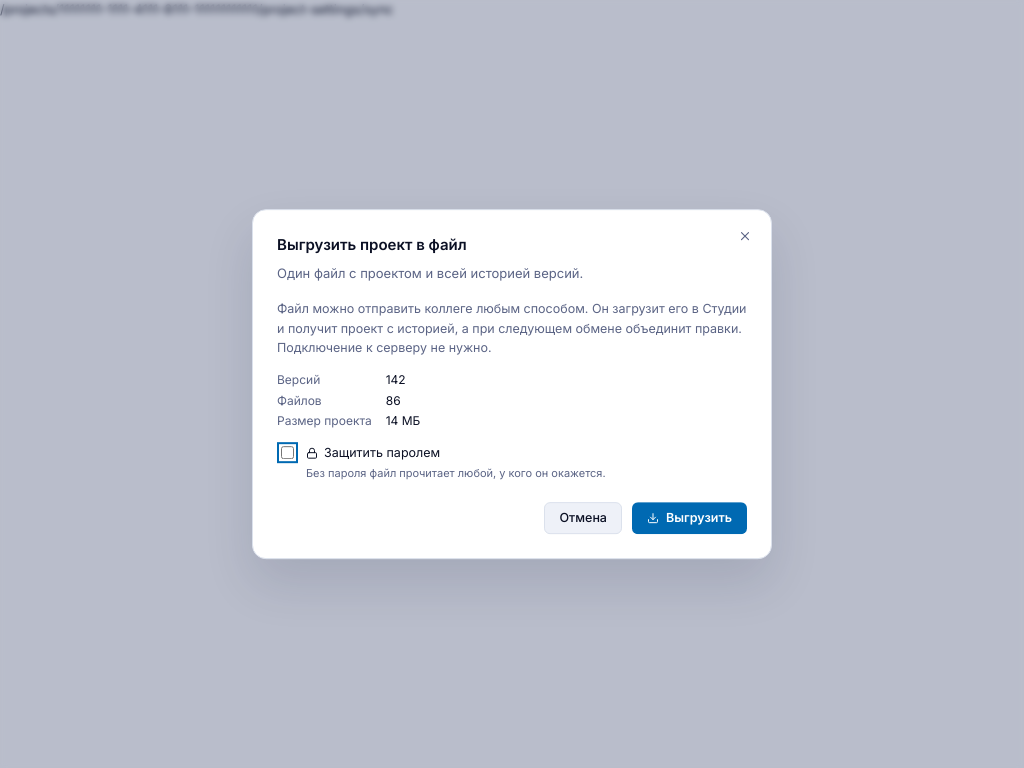
Test case: окно выгрузки проекта в файл › с паролем просит повторить его и не пускает дальше при расхождении
This screenshot has width=1024, height=768.
Click the checkbox with test id "export-protect".
click(288, 452)  # box [281, 446, 294, 459]
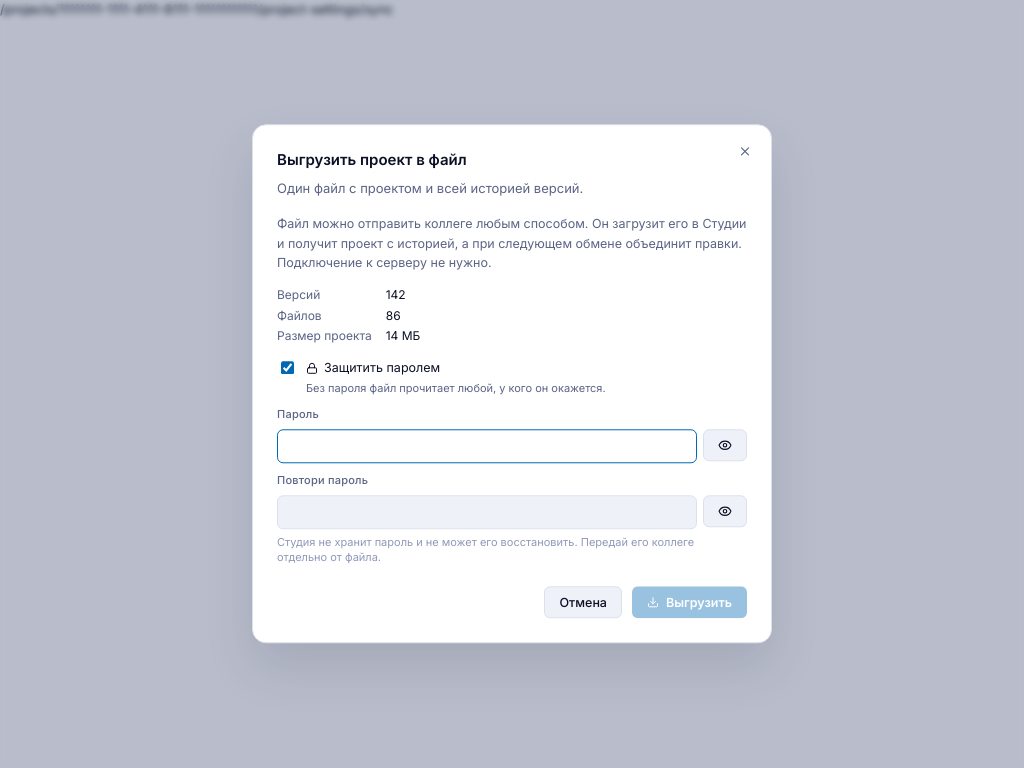
Check: the button "Выгрузить" is disabled, box [632, 587, 747, 619]
Type "secret-1" into the password field with test id "export-password".
click(487, 446); type("secret-1")  # box [277, 429, 697, 463]
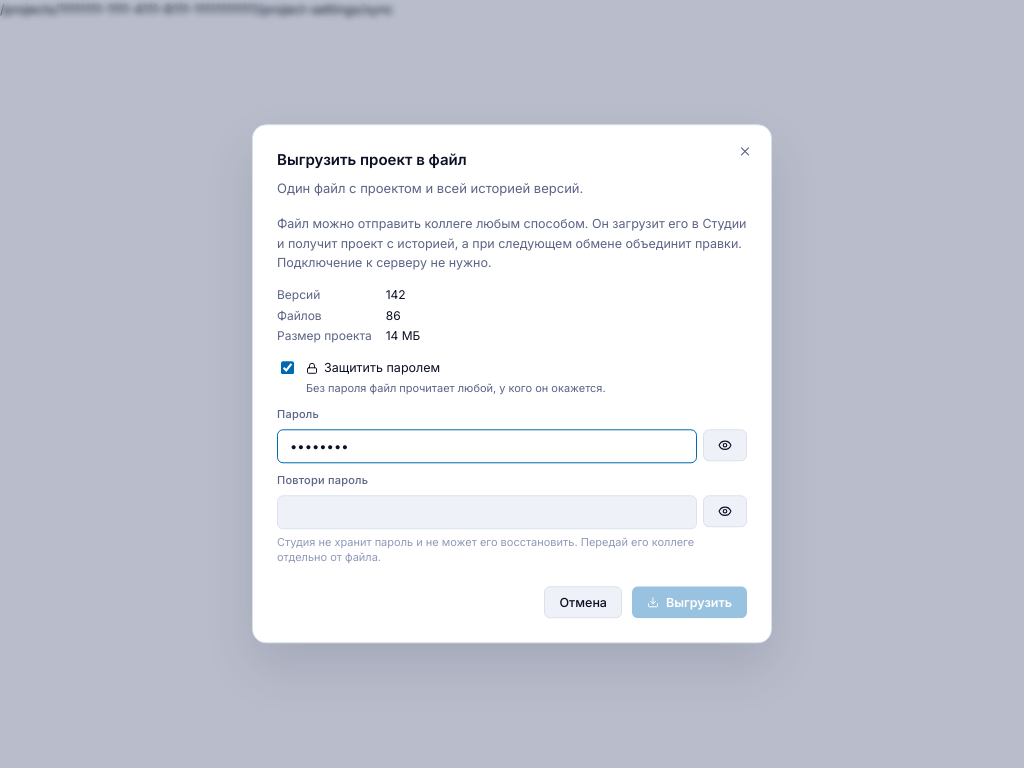
Type "secret-2" into the password field with test id "export-repeat".
click(487, 512); type("secret-2")  # box [277, 495, 697, 529]
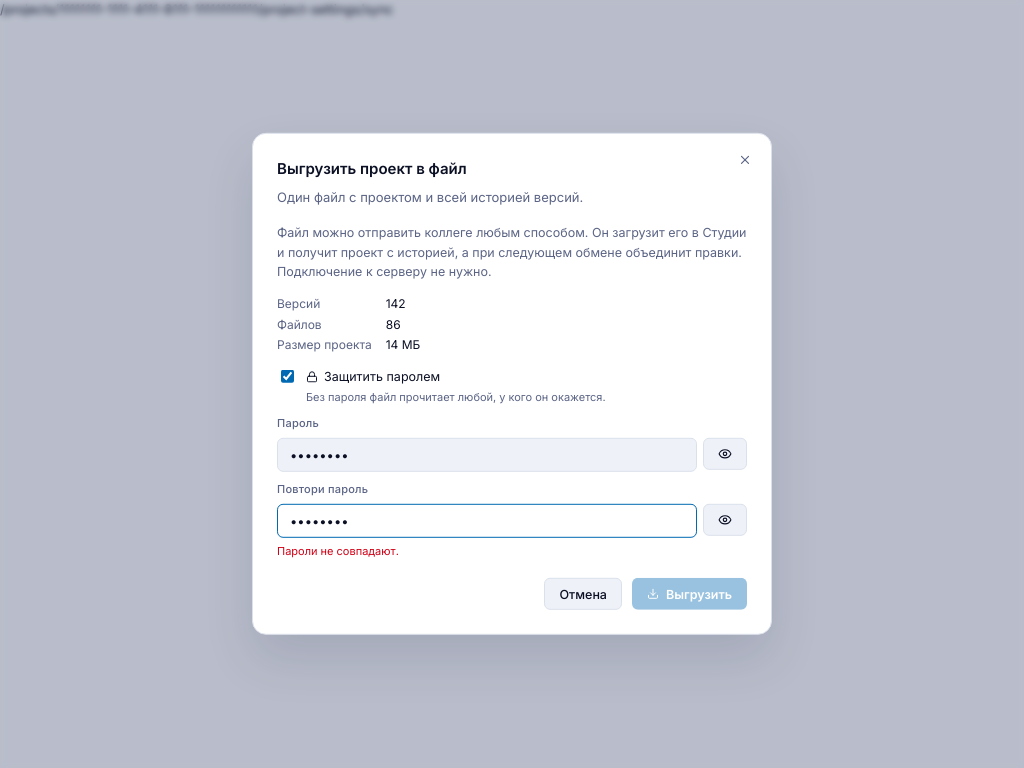
Check: the button "Выгрузить" is disabled, box [632, 578, 747, 610]
Check: the text "Пароли не совпадают." is shown, box [277, 543, 399, 557]
Clear the password field with test id "export-repeat" at [487, 520], box [277, 503, 697, 537]
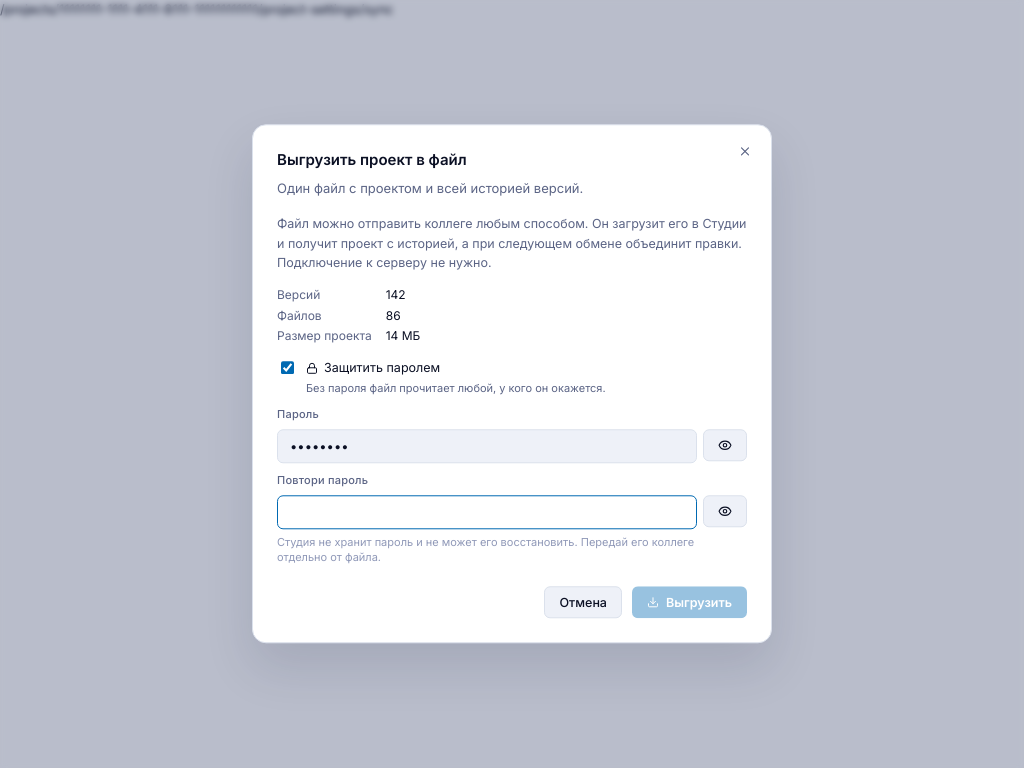
Type "secret-1" into the password field with test id "export-repeat".
click(487, 512); type("secret-1")  # box [277, 495, 697, 529]
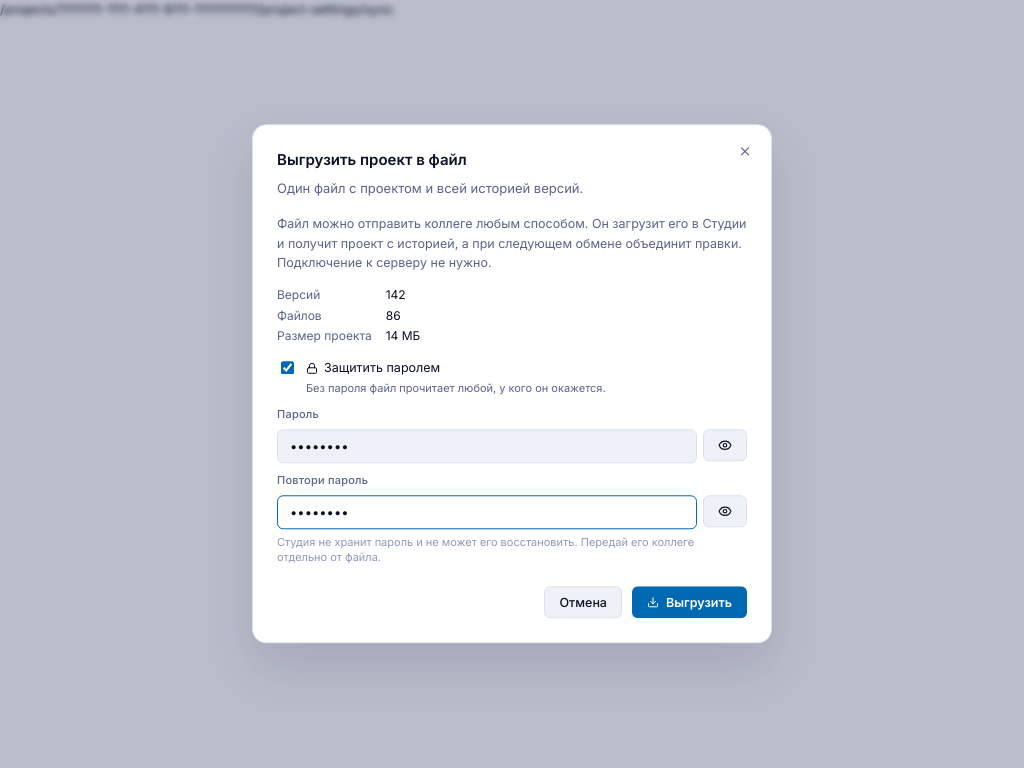
Check: the text "Пароли не совпадают." is not shown
Check: the button "Выгрузить" is enabled
Click the button "Выгрузить".
click(690, 603)  # box [632, 587, 747, 619]
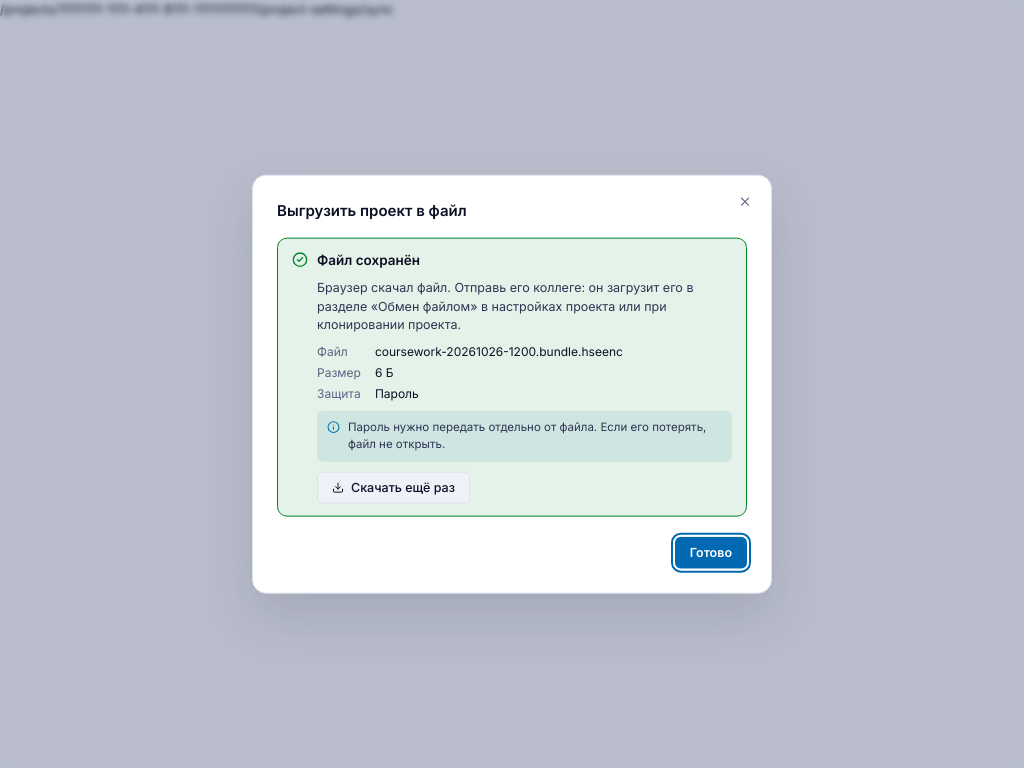
Check: the message with test id "export-done" shows "Пароль", box [375, 386, 419, 401]
Check: the message with test id "export-done" shows "отдельно от файла", box [348, 420, 706, 451]
